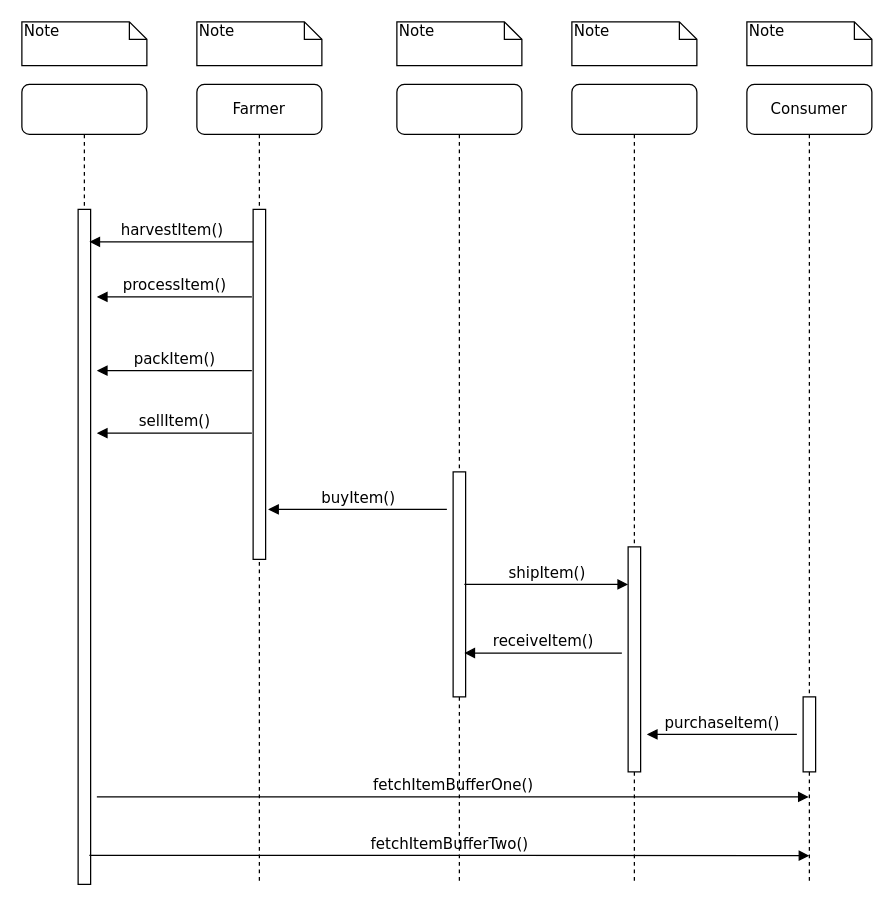
Image size: 894x906. Some labels were removed from this diagram. Here are the shapes that lost their labels. From the top down, the box of each, then its label:
(21, 83, 147, 884): Coffee
(396, 83, 522, 884): Distributor
(571, 83, 697, 884): Retailer
